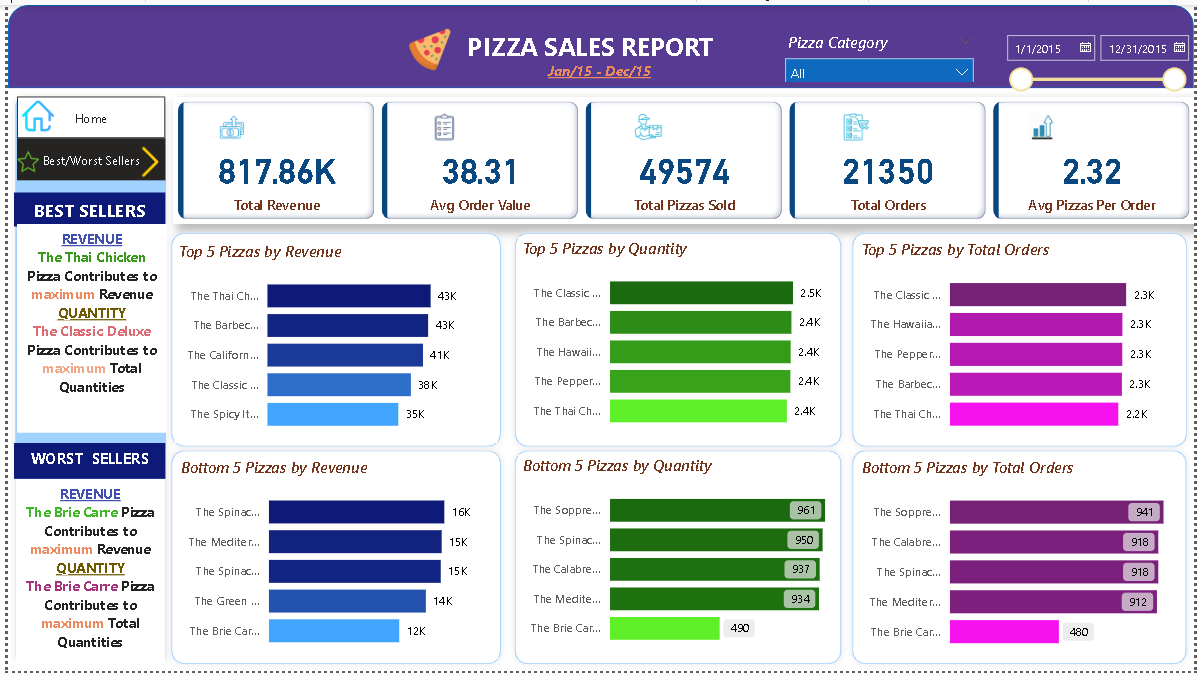

The dashboard page shown, as its layout file describes it:
{"tool":"powerbi","page":{"name":"Best/Worst Sellers ","canvas":[1280,720],"ordinal":1},"visuals":[{"type":"cardVisual","fields":{"Data":["pizza_sales.Total Revenue","pizza_sales.Avg Order Value","pizza_sales.Total Pizzas Sold","pizza_sales.Total Orders","pizza_sales.Avg Pizzas Per Order"]},"box":[177.5,98.8,1102.5,137.5],"z":0},{"type":"shape","box":[0,0,1280,90],"z":1000},{"type":"textbox","box":[470,21.7,318.3,53.3],"z":2000},{"type":"textbox","box":[552.9,55.7,172.9,41.4],"z":3000},{"type":"image","box":[423.3,20,65,56.7],"z":4000},{"type":"shape","box":[168.3,473.3,371.7,246.7],"z":5000},{"type":"shape","box":[903.3,473.3,376.7,246.7],"z":6000},{"type":"shape","box":[540,473.3,368.3,246.7],"z":7000},{"type":"shape","box":[0,90,178.6,630],"z":8000},{"type":"textbox","box":[6.7,201.7,163.3,36.7],"z":9000},{"type":"textbox","box":[10,236.7,161.7,225],"z":10000},{"type":"textbox","box":[6.7,473.3,163.3,38.3],"z":11000},{"type":"textbox","box":[8.3,511.7,161.7,208.3],"z":12000},{"type":"slicer","title":"Pizza Category","fields":{"Values":["pizza_sales.order_date"]},"box":[828.3,25,223.3,58.3],"z":13000},{"type":"slicer","title":"Pizza Category","fields":{"Values":["pizza_sales.order_date"]},"box":[1065,23.3,215,73.3],"z":14000},{"type":"shape","box":[168.3,238.3,371.7,246.7],"z":15000},{"type":"shape","box":[903.3,238.3,377,246.7],"z":16000},{"type":"shape","box":[540,238.3,368.3,246.7],"z":17000},{"type":"barChart","title":"Top 5 Pizzas by Revenue","fields":{"Category":["pizza_sales.pizza_name"],"Y":["pizza_sales.Total Revenue"]},"box":[180,255,348.3,218.3],"z":18000},{"type":"barChart","title":"Bottom 5 Pizzas by Revenue","fields":{"Category":["pizza_sales.pizza_name"],"Y":["pizza_sales.Total Revenue"]},"box":[181.1,487.8,347.8,218.9],"z":19000},{"type":"barChart","title":"Top 5 Pizzas by Quantity","fields":{"Category":["pizza_sales.pizza_name"],"Y":["pizza_sales.Total Pizzas Sold"]},"box":[550,251.1,345.6,217.8],"z":20000},{"type":"barChart","title":"Bottom 5 Pizzas by Quantity","fields":{"Category":["pizza_sales.pizza_name"],"Y":["pizza_sales.Total Pizzas Sold"]},"box":[550,485.6,345.6,217.8],"z":21000},{"type":"barChart","title":"Top 5 Pizzas by Total Orders","fields":{"Category":["pizza_sales.pizza_name"],"Y":["pizza_sales.Total Orders"]},"box":[916.7,253.3,350,220],"z":22000},{"type":"barChart","title":"Bottom 5 Pizzas by Total Orders","fields":{"Category":["pizza_sales.pizza_name"],"Y":["pizza_sales.Total Orders"]},"box":[916.7,486.7,350,220],"z":23000},{"type":"pageNavigator","box":[10,98.6,160,45.7],"z":24000},{"type":"pageNavigator","box":[10,144.3,160,45.7],"z":25000},{"type":"image","box":[126.7,146.7,55,43.3],"z":26000},{"type":"image","box":[10,96.7,45,45],"z":27000},{"type":"image","box":[5,146.7,33.3,43.3],"z":28000}]}

Visuals, with their boxes in screenshot pixels (x1, y1, x2, y2), scaled from the page's 1280x720 canvas onto the 1197x673 screenshot:
cardVisual - pizza_sales.Total Revenue x pizza_sales.Avg Order Value: rect(166, 92, 1196, 221)
shape: rect(0, 0, 1196, 84)
textbox: rect(440, 20, 737, 70)
textbox: rect(517, 52, 679, 91)
image: rect(396, 19, 457, 72)
shape: rect(157, 442, 505, 672)
shape: rect(845, 442, 1196, 672)
shape: rect(505, 442, 849, 672)
shape: rect(0, 84, 167, 672)
textbox: rect(6, 189, 159, 223)
textbox: rect(9, 221, 161, 432)
textbox: rect(6, 442, 159, 478)
textbox: rect(8, 478, 159, 672)
"Pizza Category" slicer: rect(775, 23, 983, 78)
"Pizza Category" slicer: rect(996, 22, 1196, 90)
shape: rect(157, 223, 505, 453)
shape: rect(845, 223, 1196, 453)
shape: rect(505, 223, 849, 453)
"Top 5 Pizzas by Revenue" barChart: rect(168, 238, 494, 442)
"Bottom 5 Pizzas by Revenue" barChart: rect(169, 456, 495, 661)
"Top 5 Pizzas by Quantity" barChart: rect(514, 235, 838, 438)
"Bottom 5 Pizzas by Quantity" barChart: rect(514, 454, 838, 657)
"Top 5 Pizzas by Total Orders" barChart: rect(857, 237, 1185, 442)
"Bottom 5 Pizzas by Total Orders" barChart: rect(857, 455, 1185, 661)
pageNavigator: rect(9, 92, 159, 135)
pageNavigator: rect(9, 135, 159, 178)
image: rect(118, 137, 170, 178)
image: rect(9, 90, 51, 132)
image: rect(5, 137, 36, 178)
